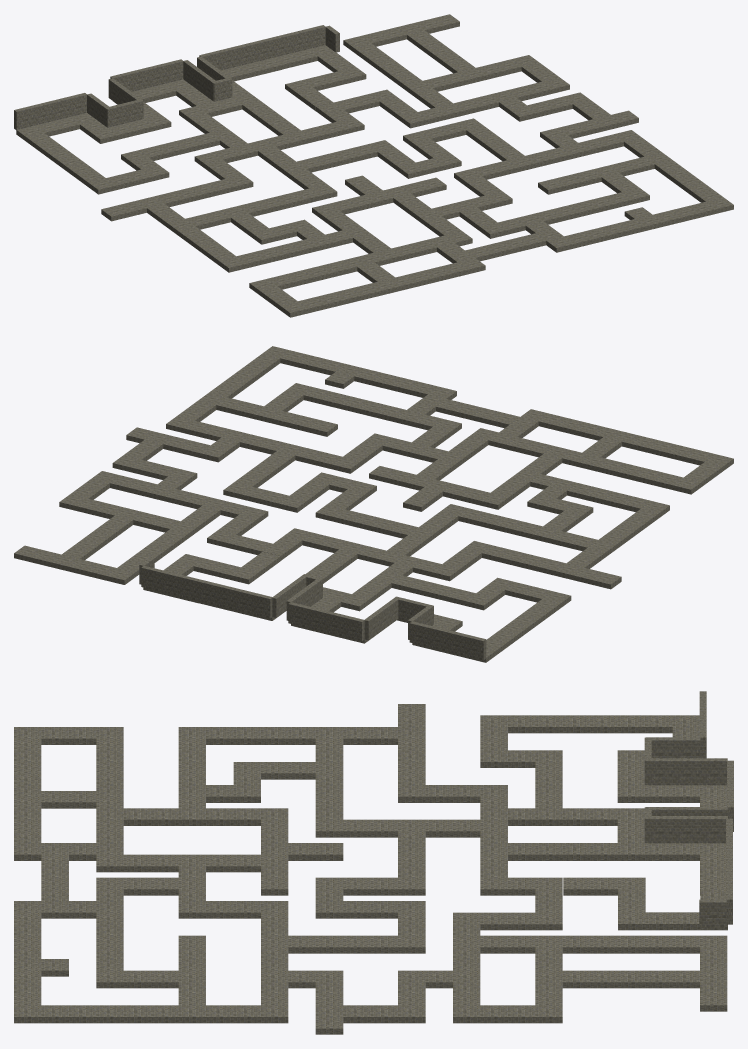
Rendered from labyrinth.glb.
The picture shows the model from 3 angles, top to bottom: view 1: azimuth 30°, elevation 25°; view 2: azimuth 150°, elevation 25°; view 3: azimuth 270°, elevation 25°; orthographic projection. The views are drawn at different scales.
Visible parts, largest first — view 1: Wall.004; view 2: Wall.004; view 3: Wall.004.
Boxes of the visible parts, x1,y1,x2,y2 form: Wall.004: (14,14,733,317); Wall.004: (14,346,733,662); Wall.004: (14,691,733,1034).
Size of the model in its own units: 56 by 2.45 by 52.48.
Materials: 2 (2 with a texture image).
